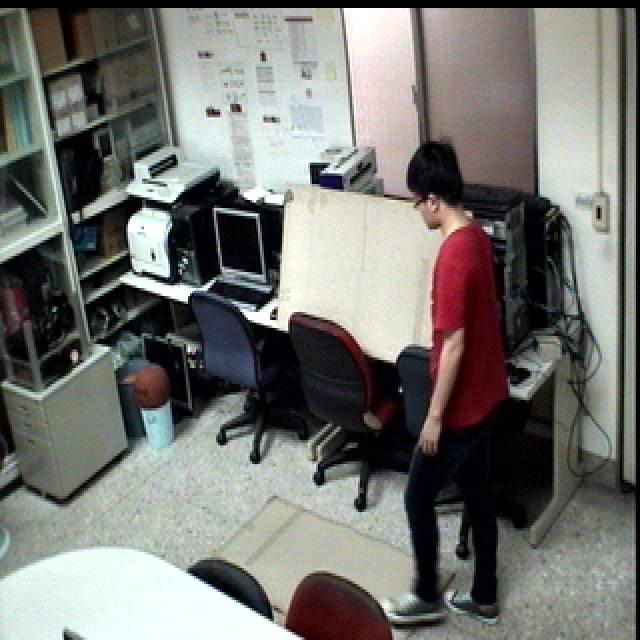stand: (382, 127, 517, 640)
